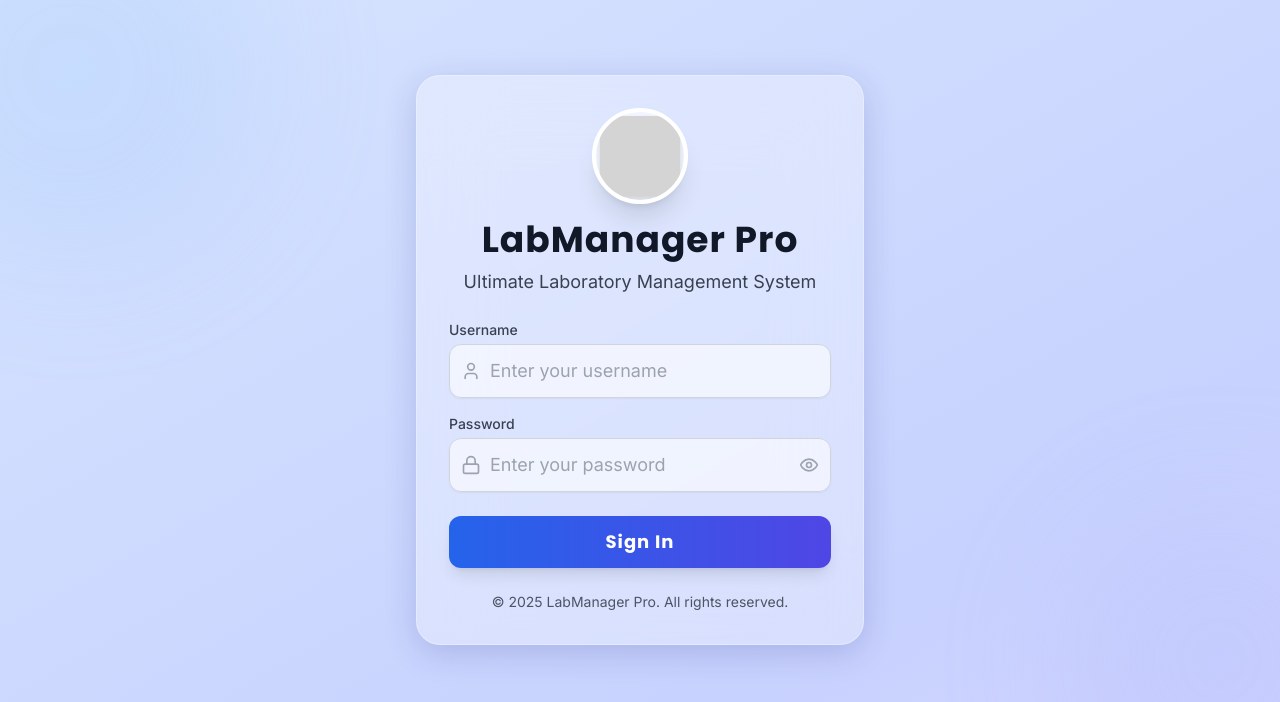
Test: Invoice Management Tests › should display invoice list
Type "admin" into the field with placeholder "Enter your username". click: (640, 371)
box: [449,344,831,398]
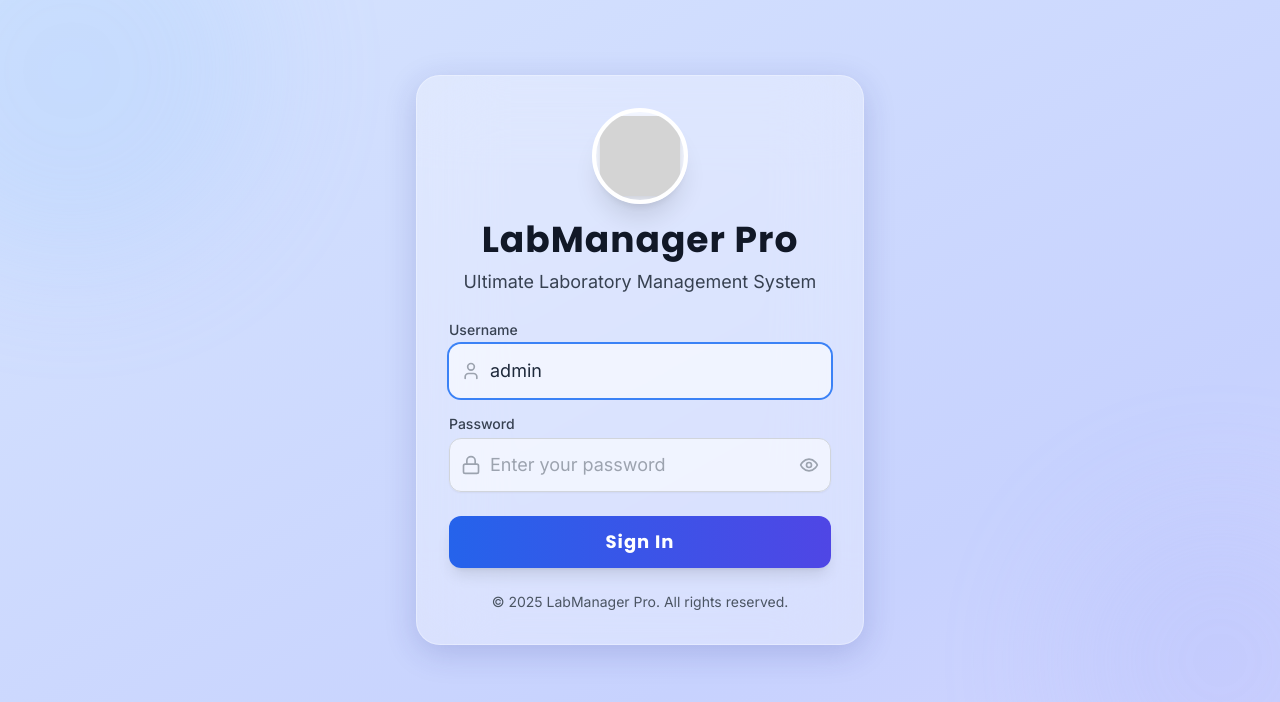
Type "Adm1n!2024#Secure" into the password field with placeholder "Enter your password". click: (640, 465)
box: [449,438,831,492]
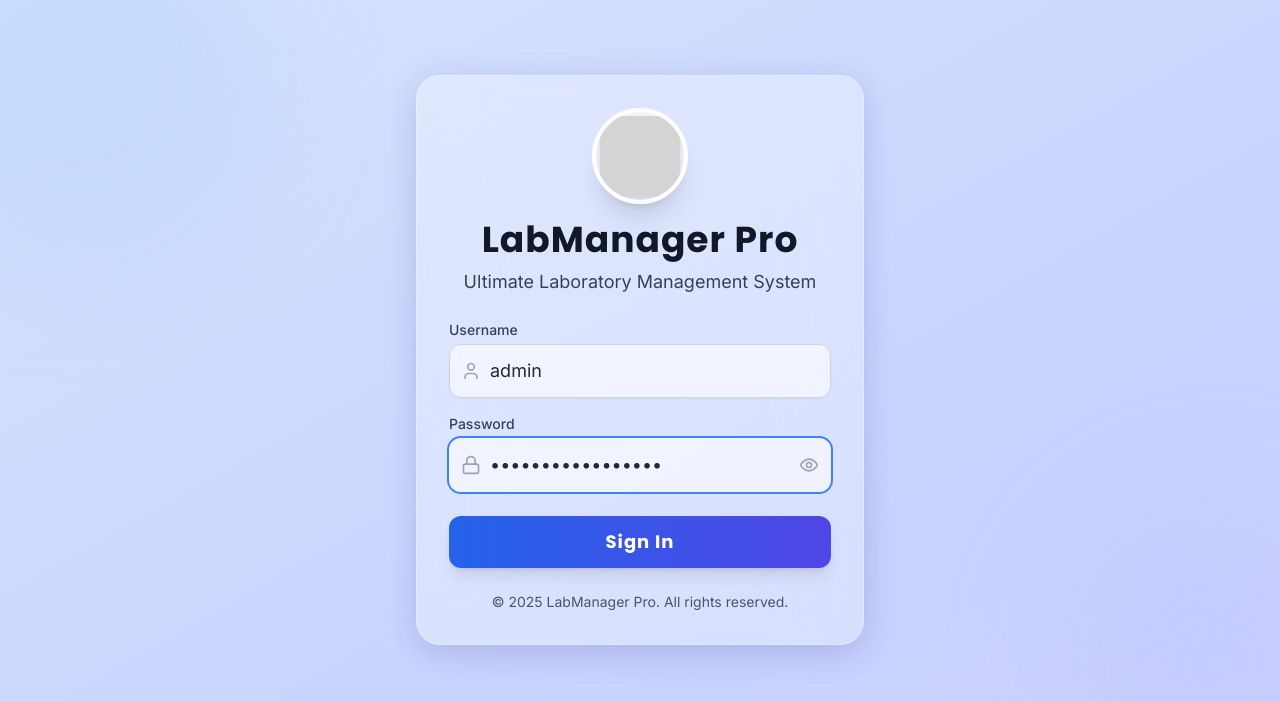
Click the button "Sign In". click: (640, 542)
box: [449,516,831,568]
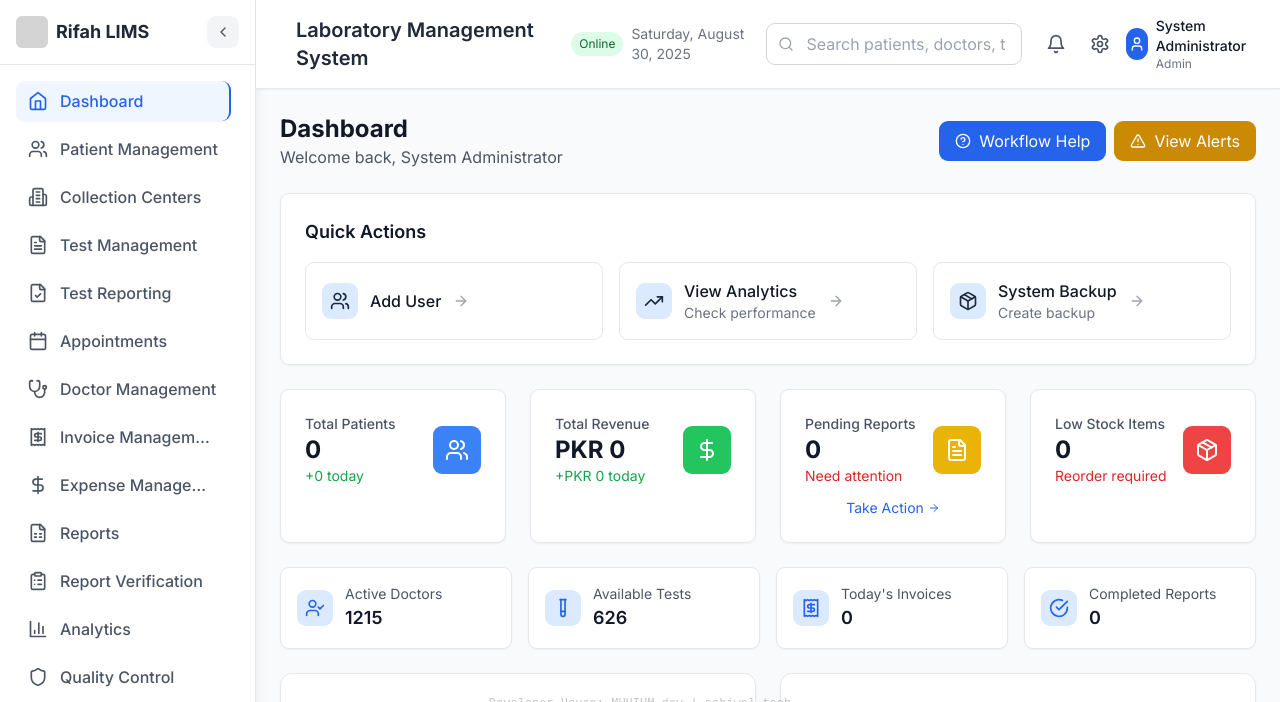
Now the button "Dashboard" is shown, box [16,81,231,121]
Click the button "Invoice Management". click: (124, 437)
box: [16,417,231,457]
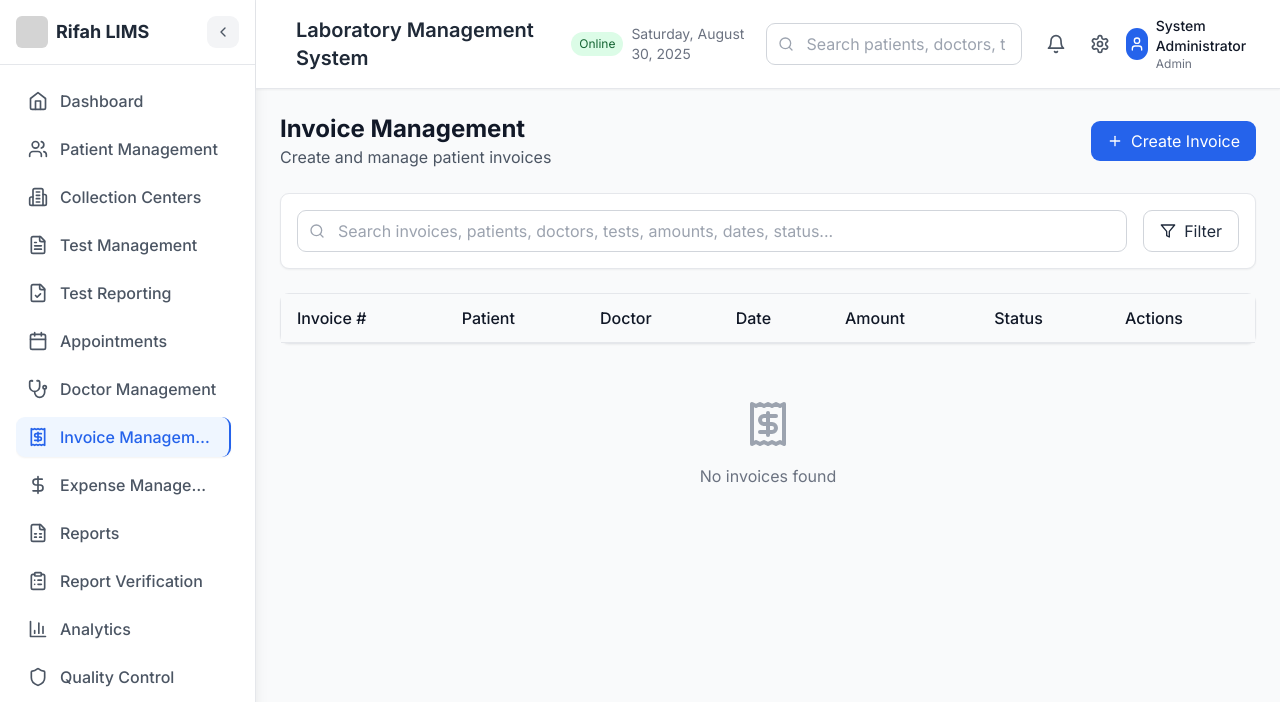
Now the table is shown, box [281,294,1255,343]
Now the column heading "Invoice #" is shown, box [281,294,446,342]
Now the column heading "Patient" is shown, box [446,294,584,342]
